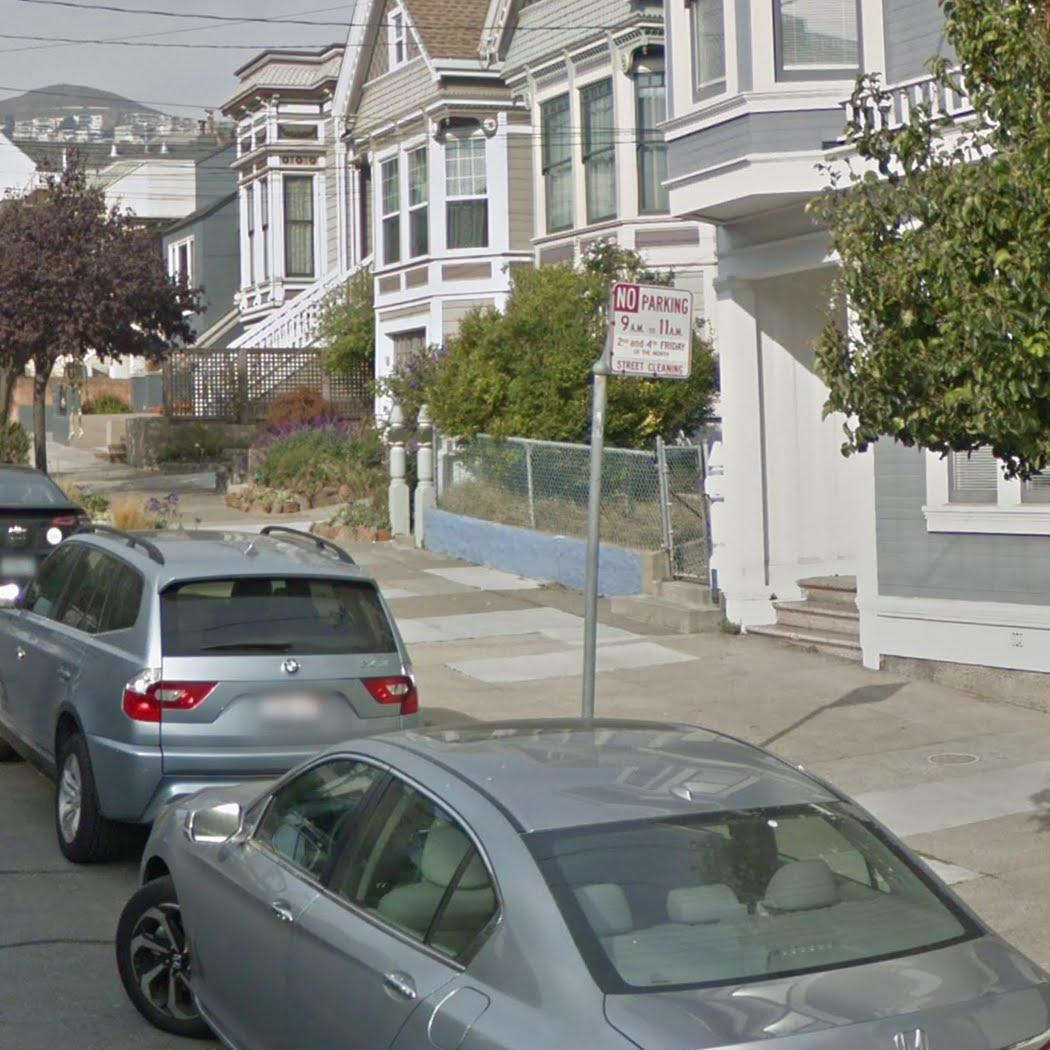No Parking: (606, 279, 699, 382)
